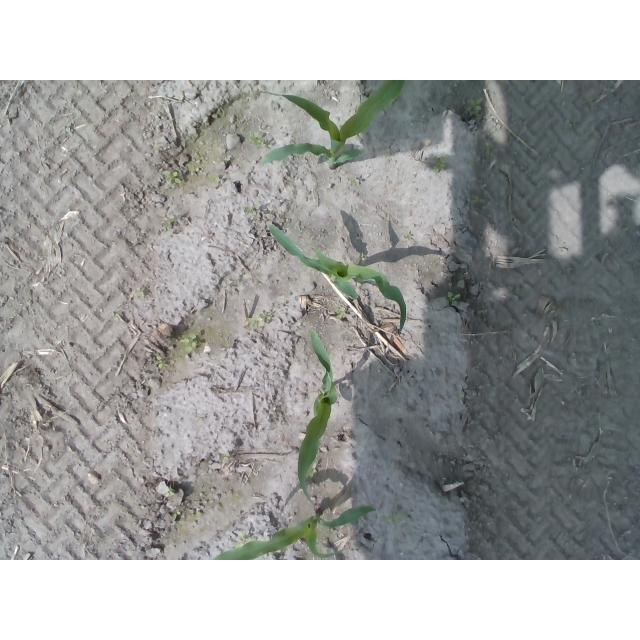Maize: (265, 220, 408, 333), (259, 80, 406, 170), (211, 506, 377, 560), (296, 328, 340, 505)
Weeds: (463, 97, 485, 119), (249, 310, 272, 330), (235, 531, 255, 548), (180, 336, 199, 353), (432, 157, 448, 175), (164, 171, 181, 186), (247, 131, 265, 145), (469, 194, 487, 207), (481, 141, 496, 155), (456, 271, 466, 289), (447, 291, 462, 302), (390, 512, 402, 524), (208, 175, 221, 186), (157, 356, 168, 369), (164, 215, 176, 225), (172, 511, 182, 521), (245, 207, 257, 214), (168, 487, 176, 496), (337, 311, 346, 319)
